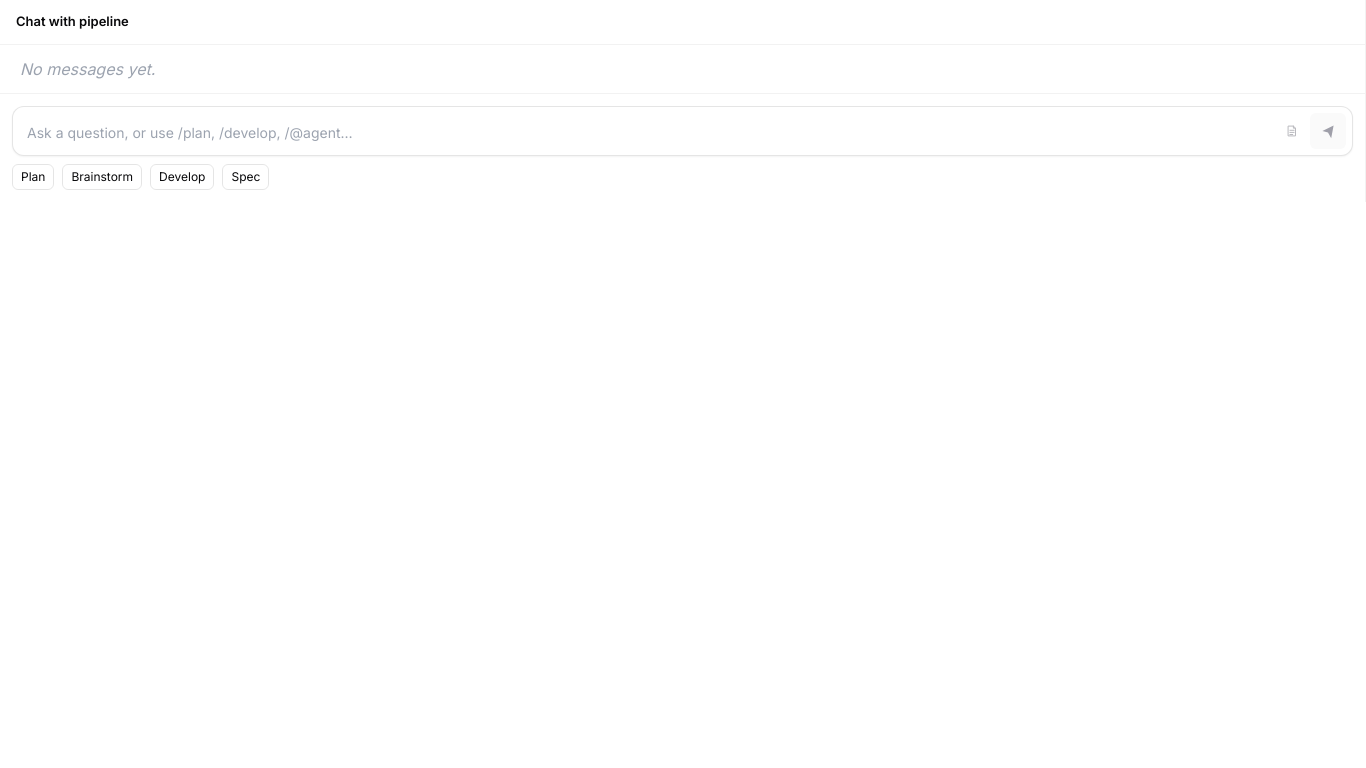
ChatPane @mention routing › submitting @bad-input (no body) shows a parse error system message
Note: Use fireEvent to bypass the mention popover keyboard handling
In the text box with test id "chat-input": point(644, 132) [19,116,1270,148], type "@bad-input"
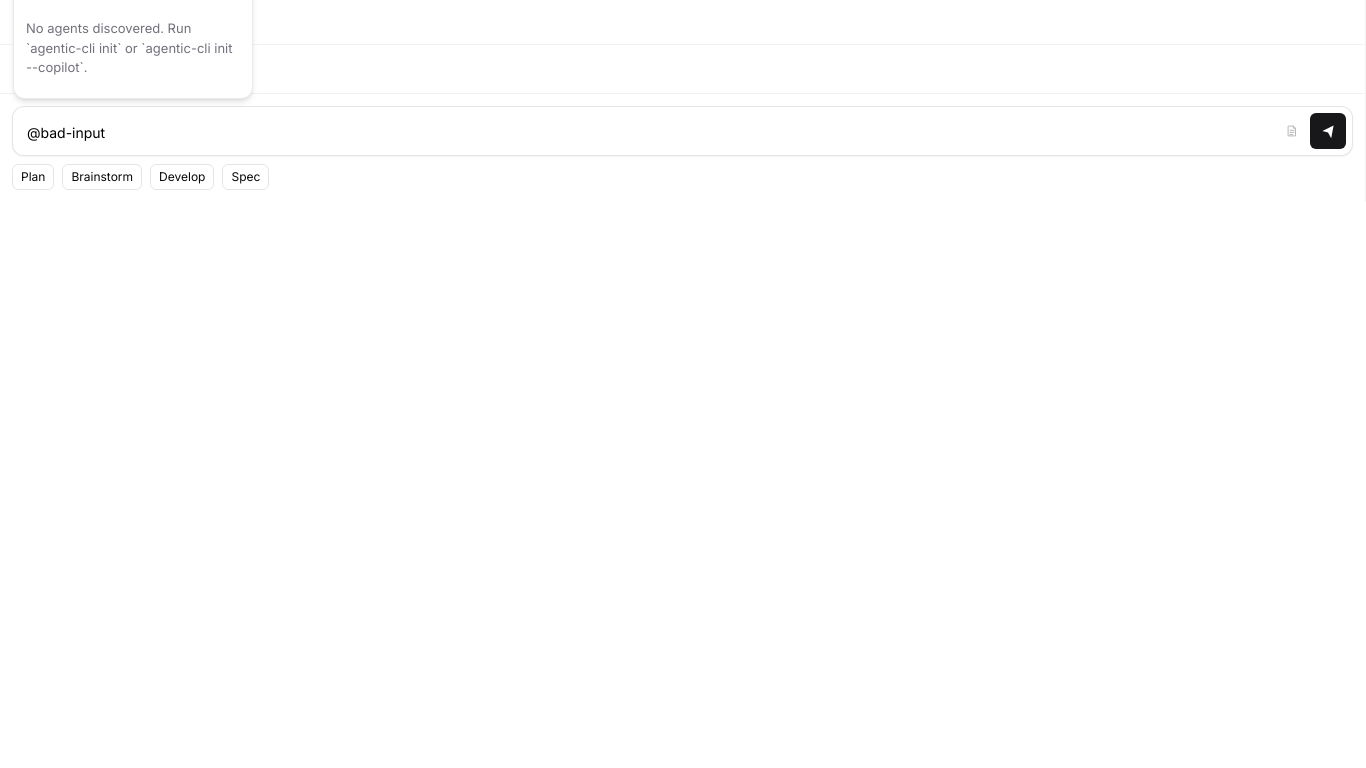
Press Enter in the text box with test id "chat-input", box [19,116,1270,148]
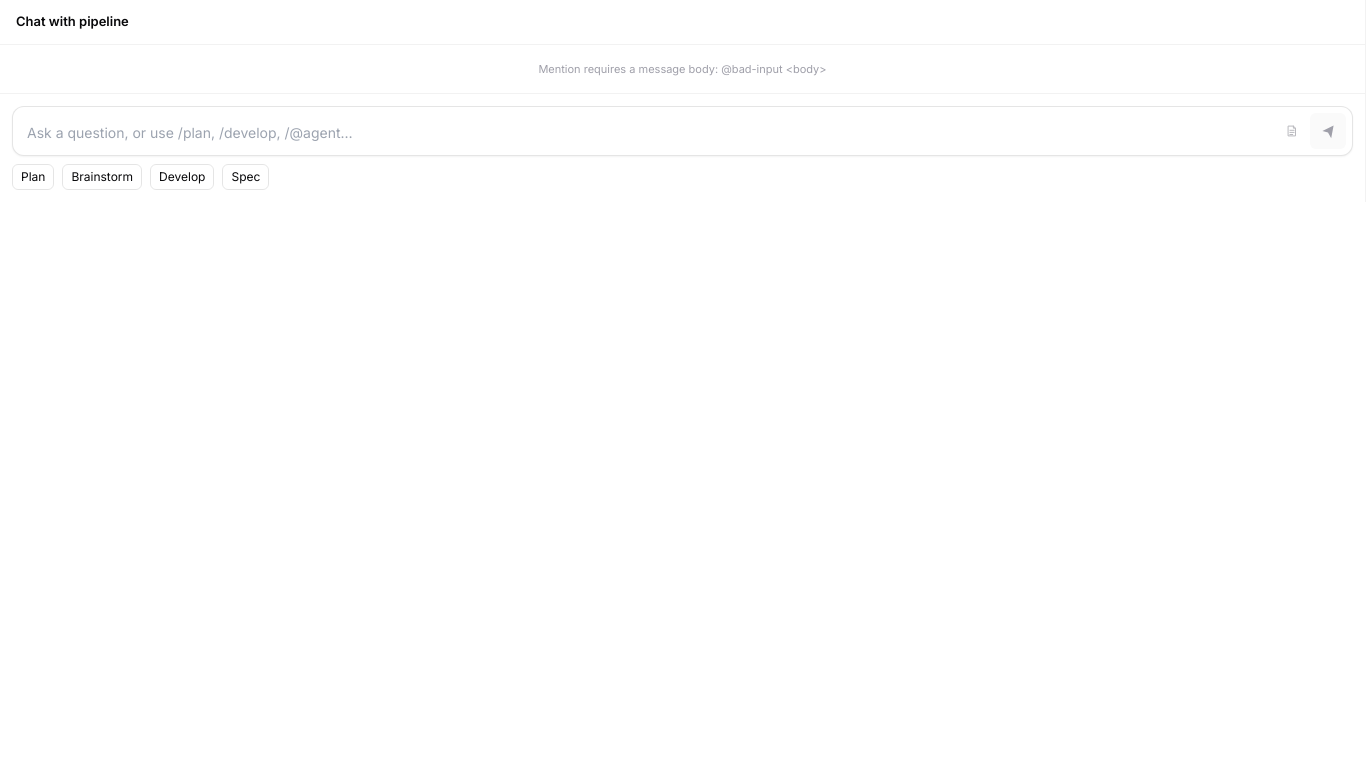
Result: the text with test id "chat-message-system" shows "bad-input" at [538,62,827,76]
